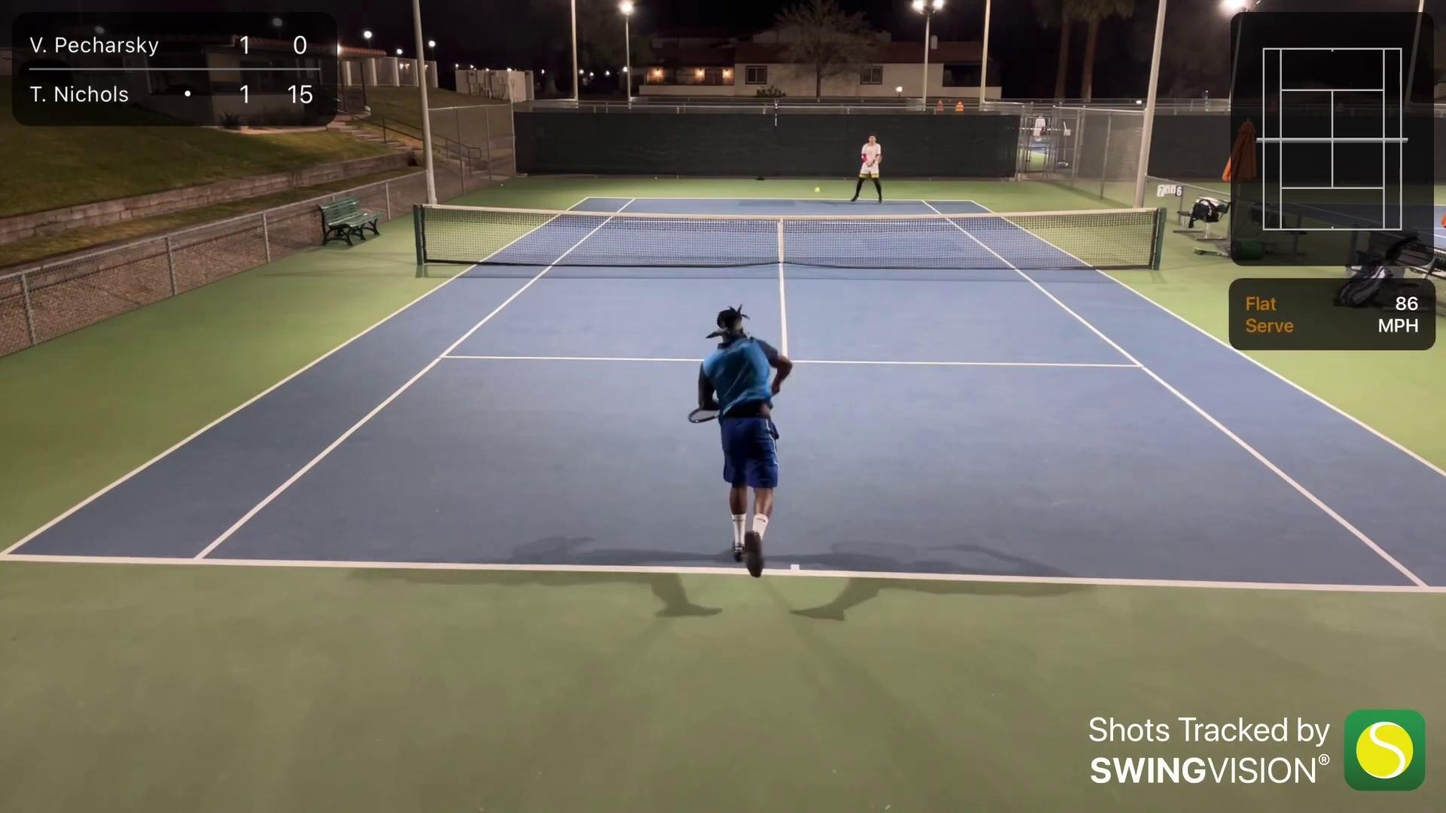ball: (813, 186, 822, 193)
